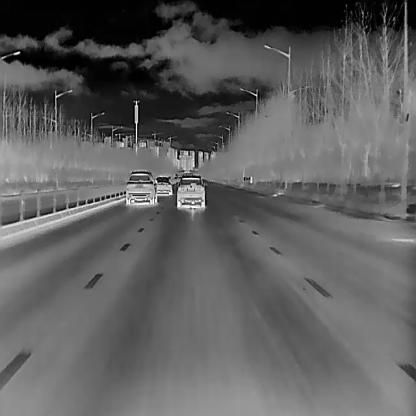car: (124, 170, 157, 205), (176, 174, 207, 208), (154, 175, 172, 195)
